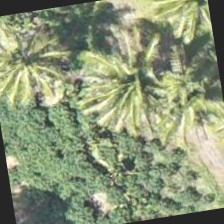Kelapa_Sawit: (82, 32, 186, 134), (0, 15, 80, 118), (152, 0, 215, 57)
